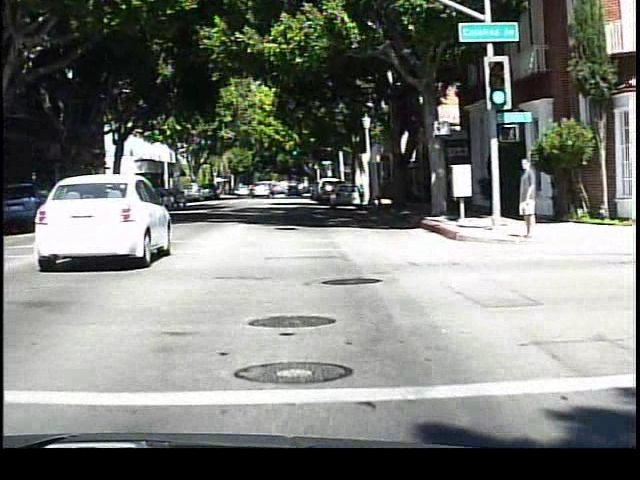person: (511, 151, 541, 242)
